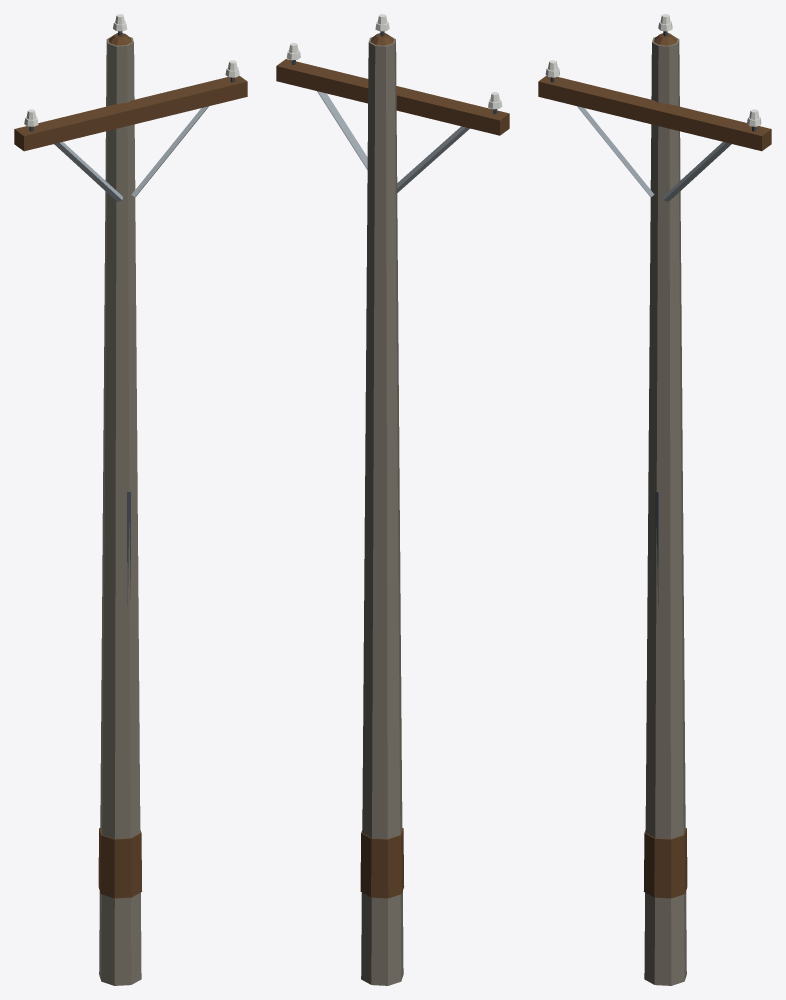
File: GL_UtilityPole_01.glb
3 renders of one model, left to right at view 1: azimuth 30°, elevation 25°; view 2: azimuth 150°, elevation 25°; view 3: azimuth 330°, elevation 25°, orthographic.
Parts seen in each view (by area): view 1: GL_UtilityPole_01; view 2: GL_UtilityPole_01; view 3: GL_UtilityPole_01.
Boxes of the visible parts, x1,y1,x2,y2 form: GL_UtilityPole_01: (14, 14, 247, 985); GL_UtilityPole_01: (276, 14, 509, 985); GL_UtilityPole_01: (538, 14, 771, 985).
Bounding box in the file's own units: 2 × 8.22 × 0.4165.
1 material, 1 textured.
